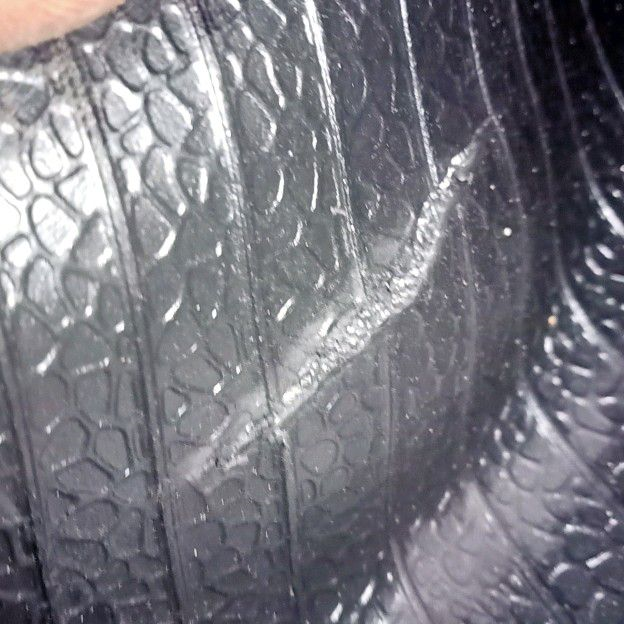CBU: (171, 79, 486, 507)
